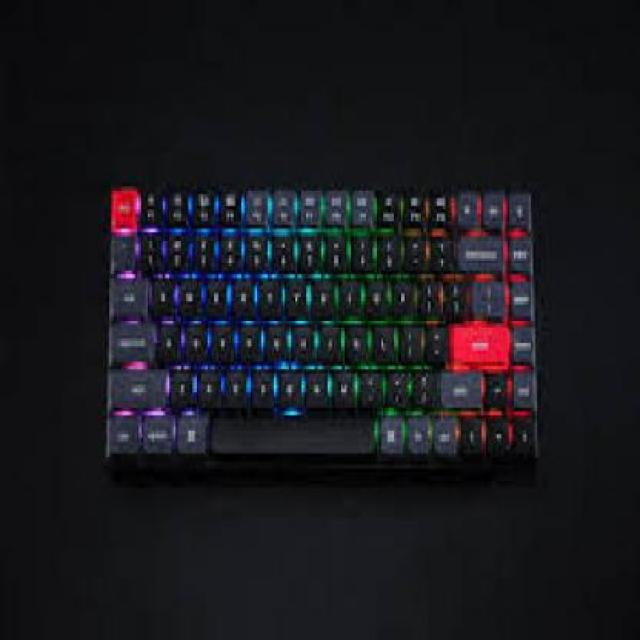keyboard: (102, 187, 543, 465)
